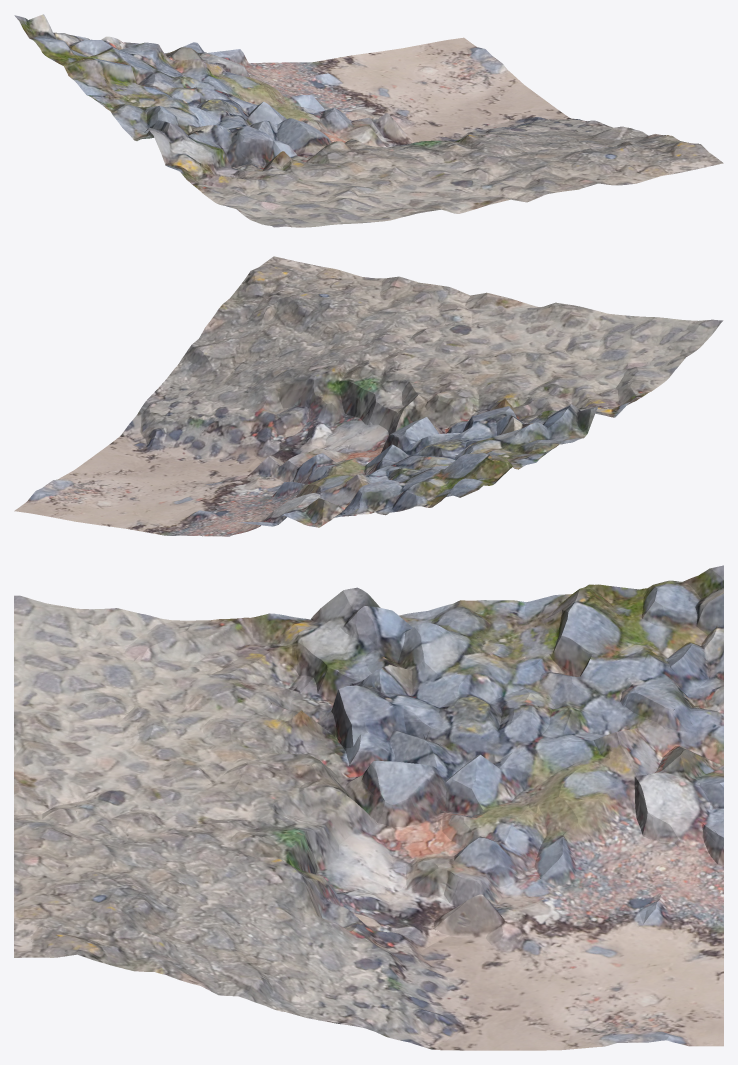
3 views of the same model, one above another, from view 1: azimuth 30°, elevation 25°; view 2: azimuth 150°, elevation 25°; view 3: azimuth 270°, elevation 25° (orthographic). The views are drawn at different scales.
Size of the model in its own units: 8.36 by 2.41 by 8.36.
3 materials, 3 textured.
